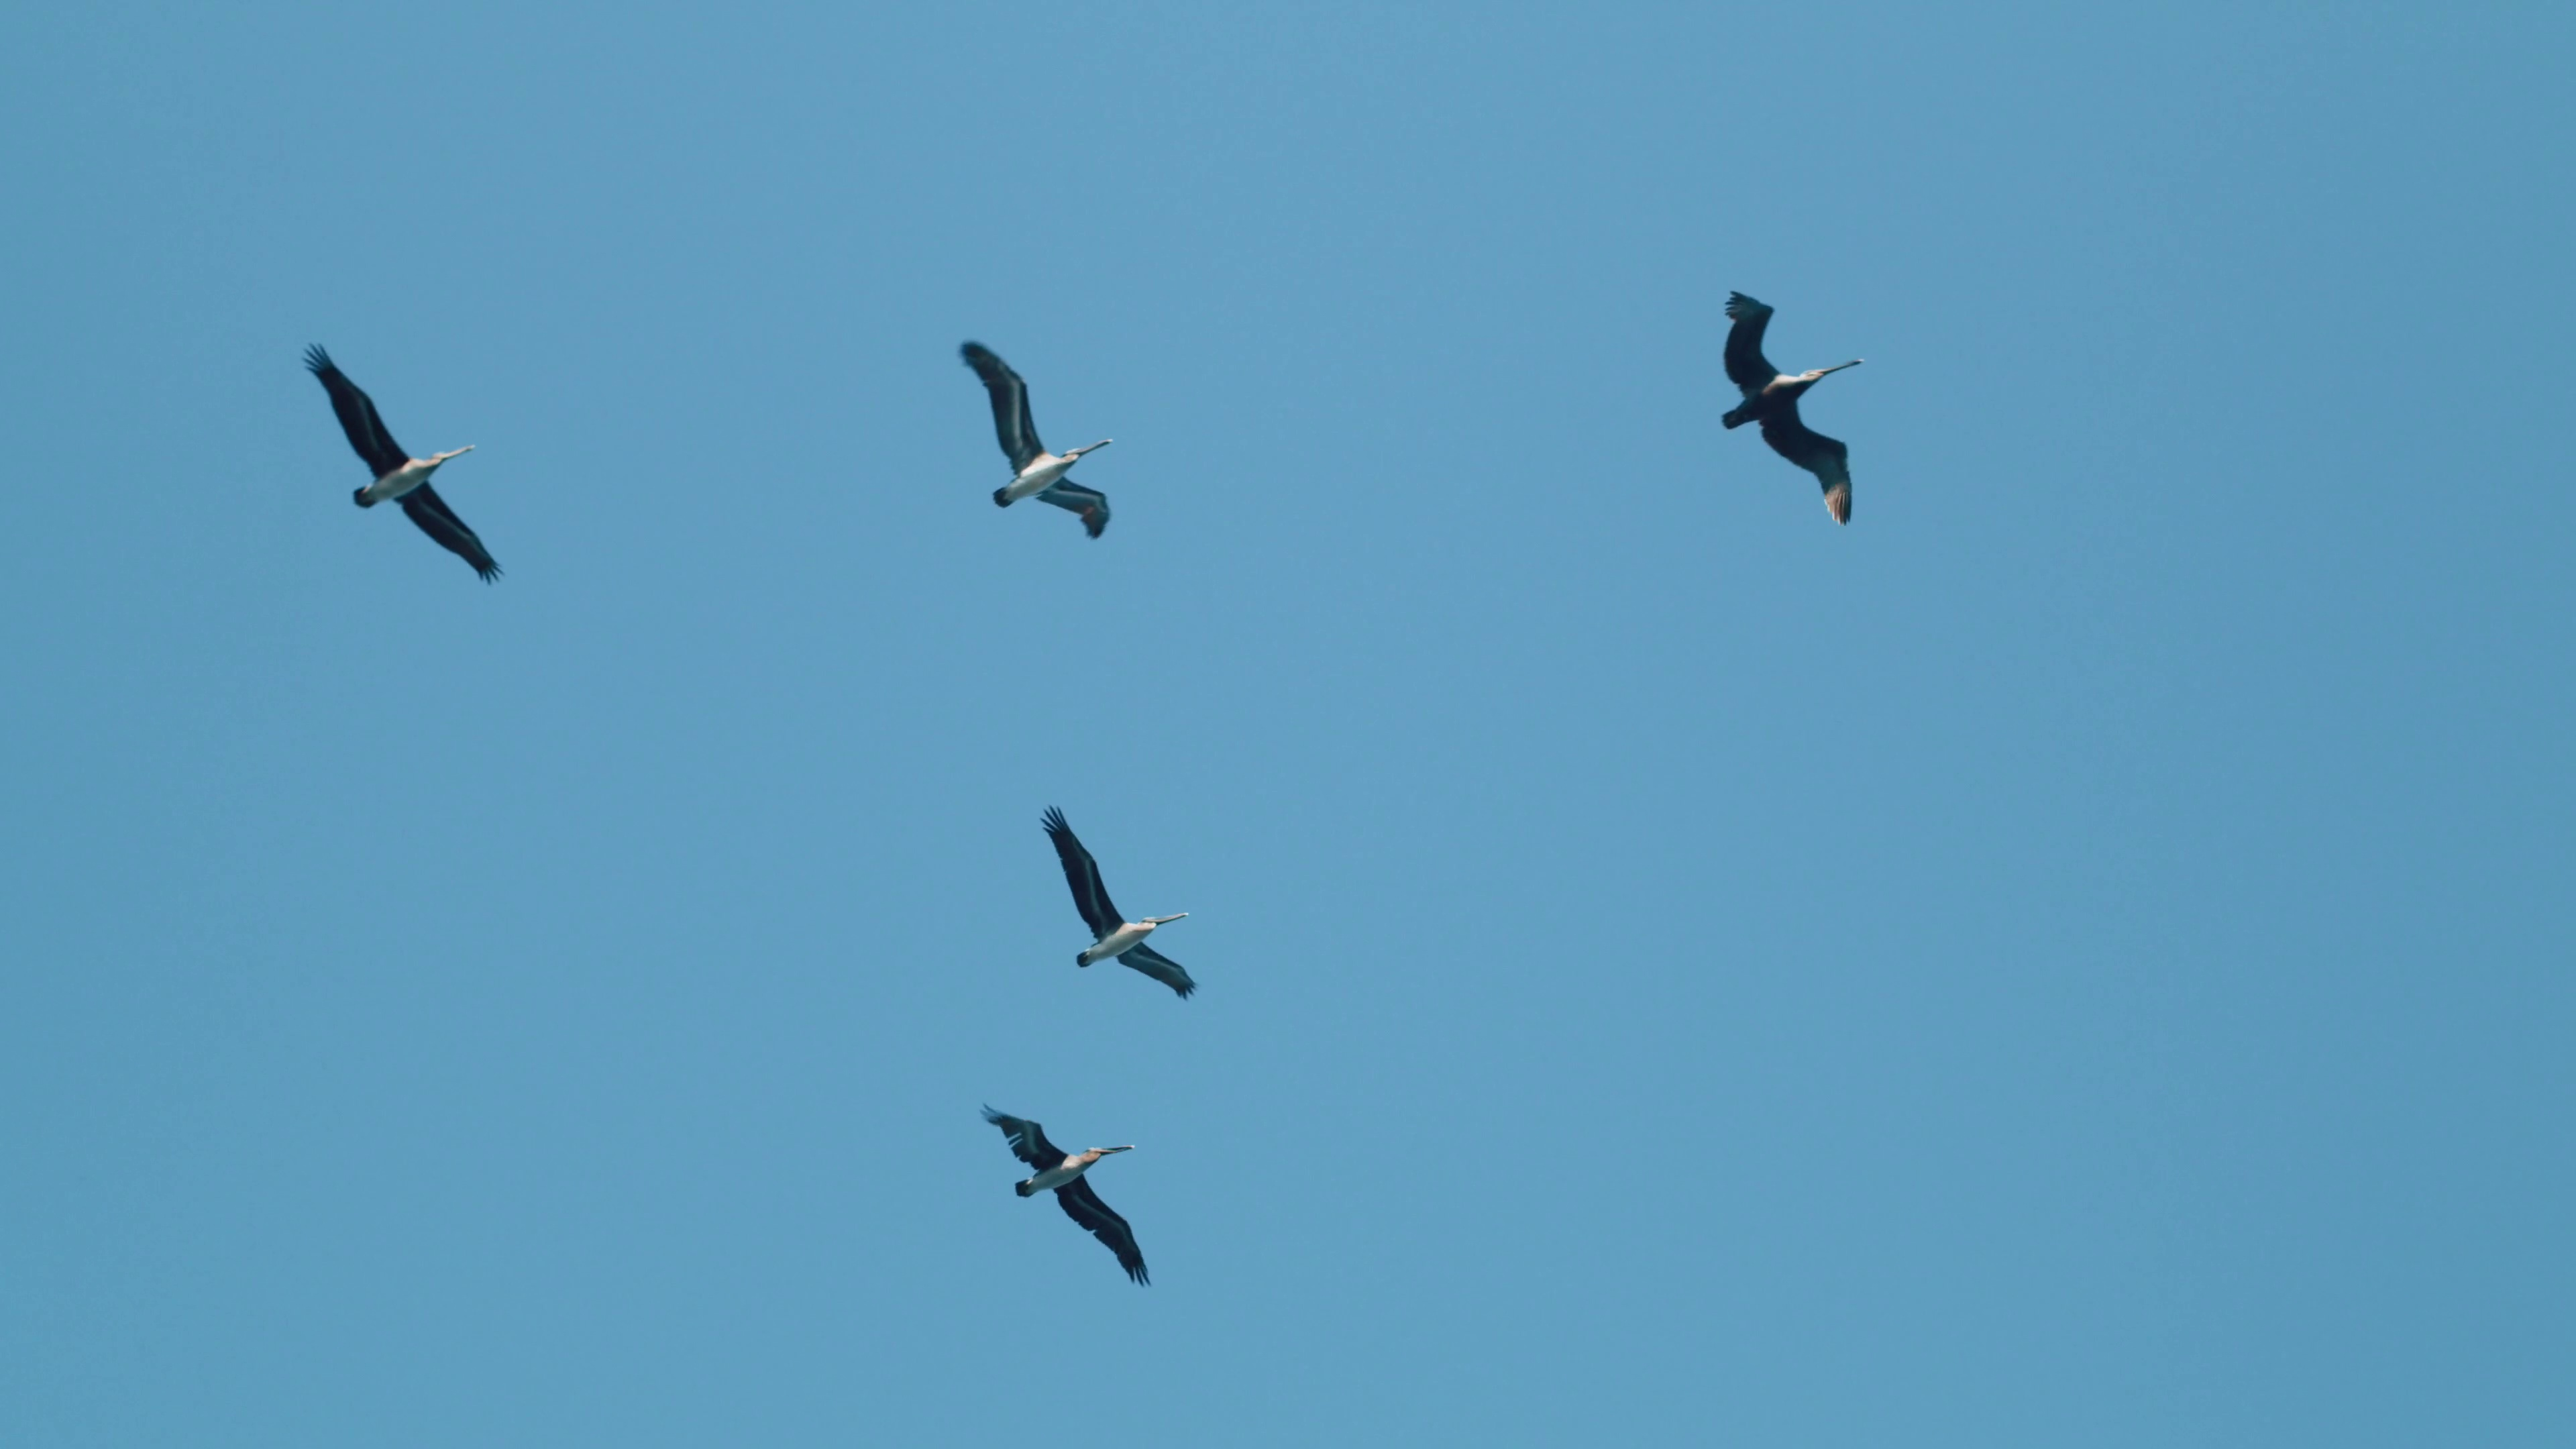bird: (308, 345, 502, 580), (1707, 285, 1863, 522), (1033, 801, 1203, 1003), (987, 1102, 1157, 1292), (957, 341, 1116, 540)
